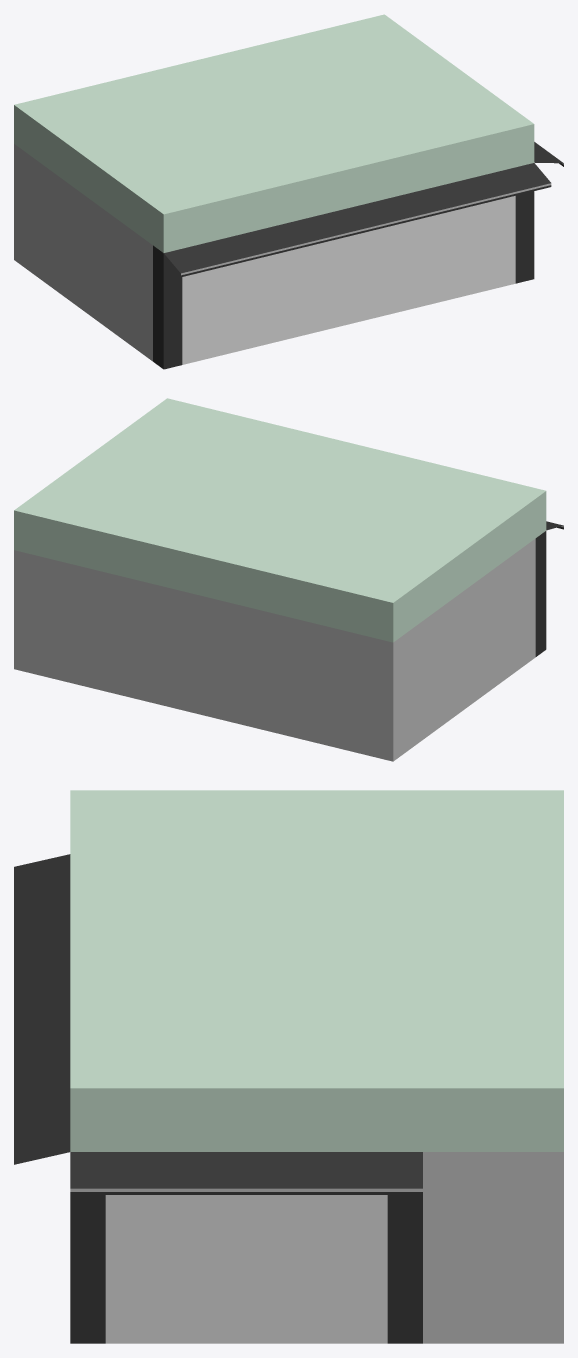
3 views of the same model, one above another, from view 1: azimuth 30°, elevation 25°; view 2: azimuth 150°, elevation 25°; view 3: azimuth 270°, elevation 25° (orthographic). The views are drawn at different scales.
Visible parts, largest first — view 1: 평면; view 2: 평면; view 3: 평면.
Part boxes in pixels (left/top/right/bottom): 평면: left=14, top=14, right=563, bottom=369; 평면: left=14, top=398, right=563, bottom=761; 평면: left=14, top=790, right=563, bottom=1343.
Bounding box in the file's own units: 1080 × 400 × 780.
